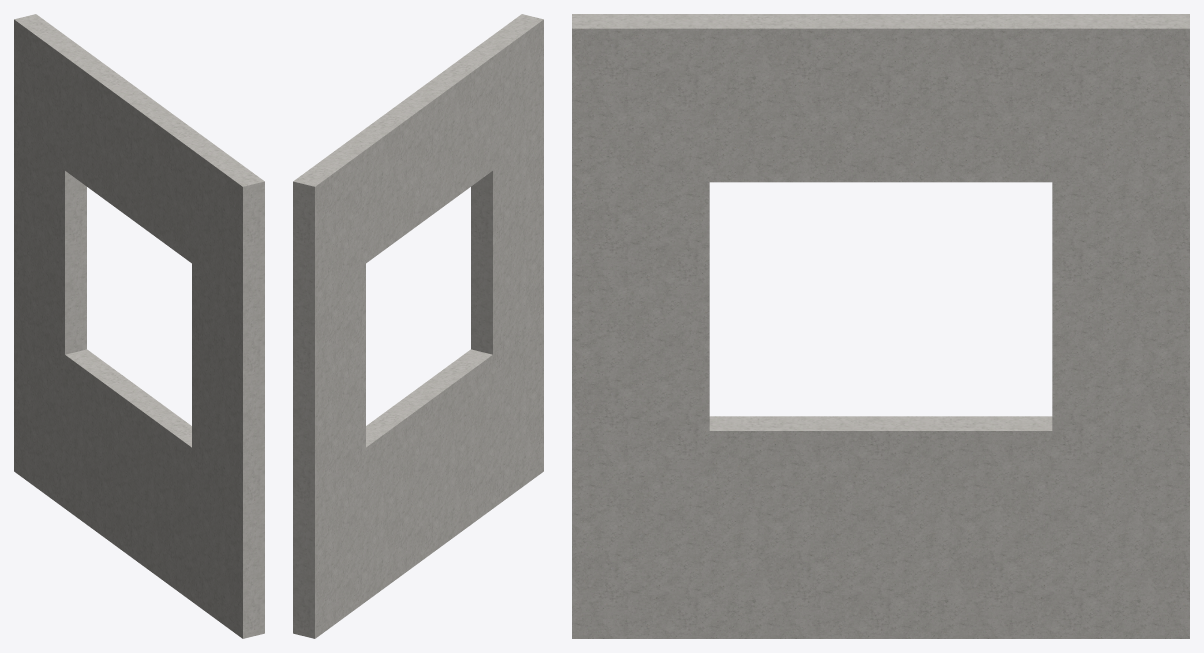
Rendered from soupwindwall016.glb.
3 renders of one model, left to right at view 1: azimuth 30°, elevation 25°; view 2: azimuth 150°, elevation 25°; view 3: azimuth 270°, elevation 25°, orthographic. The views are drawn at different scales.
Visible parts, largest first — view 1: soupwindwall016_high_1; view 2: soupwindwall016_high_1; view 3: soupwindwall016_high_1.
Boxes of the visible parts, box(x1,y1,x2,y2) form: soupwindwall016_high_1: box(14, 14, 264, 638); soupwindwall016_high_1: box(293, 14, 543, 638); soupwindwall016_high_1: box(572, 14, 1189, 638).
Bounding box in the file's own units: 0.1504 × 2.95 × 2.7.
Materials: 1 (1 with a texture image).
